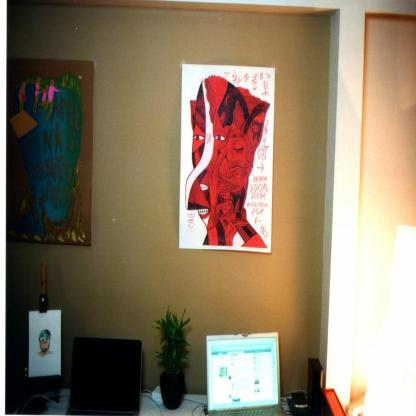board: (206, 334, 289, 416), (66, 337, 143, 416)
